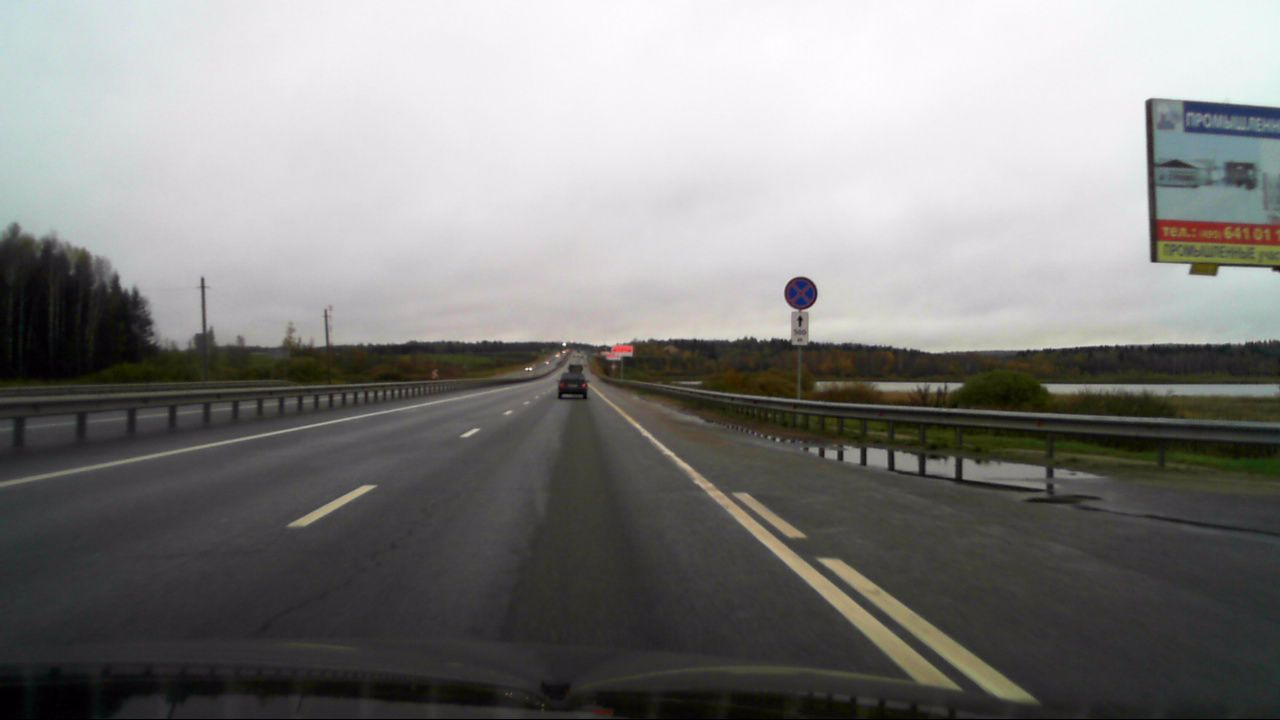No Parking: (784, 276, 817, 308)
